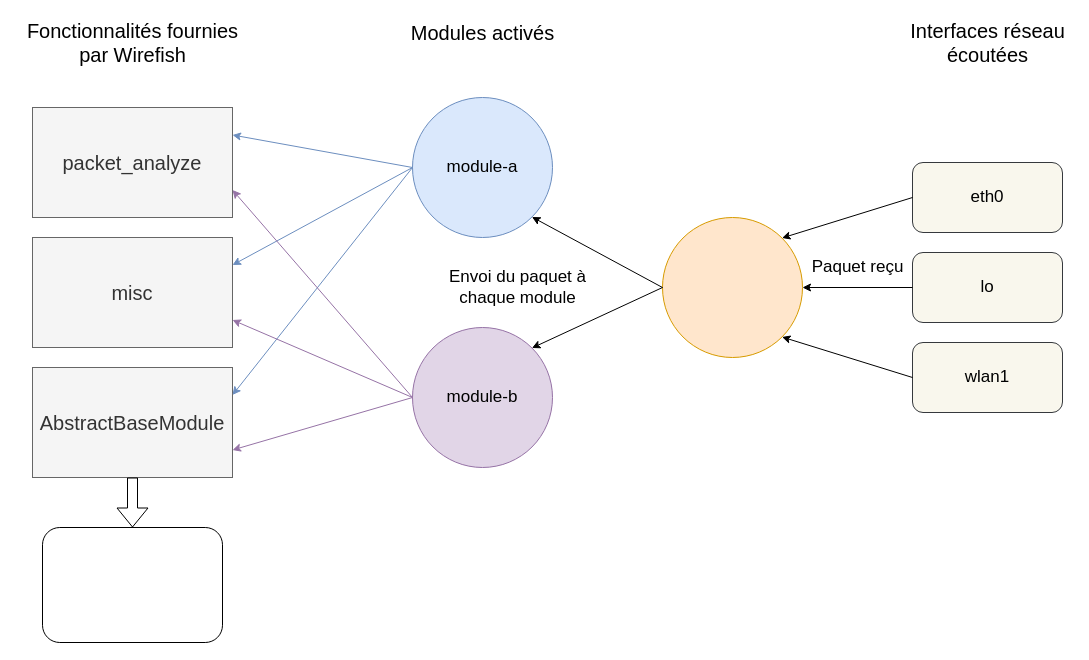
This 1089x660 diagram has some shape labels left out. Each missing label, with the centre of its shape:
"action sniff-data" belongs at (x=732, y=287).
"Interaction avec l'utilisateur" belongs at (x=132, y=584).
